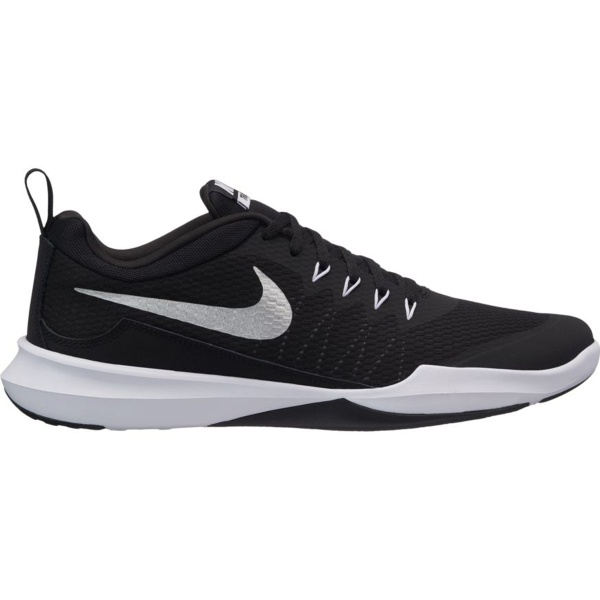nike: (73, 262, 299, 354)
